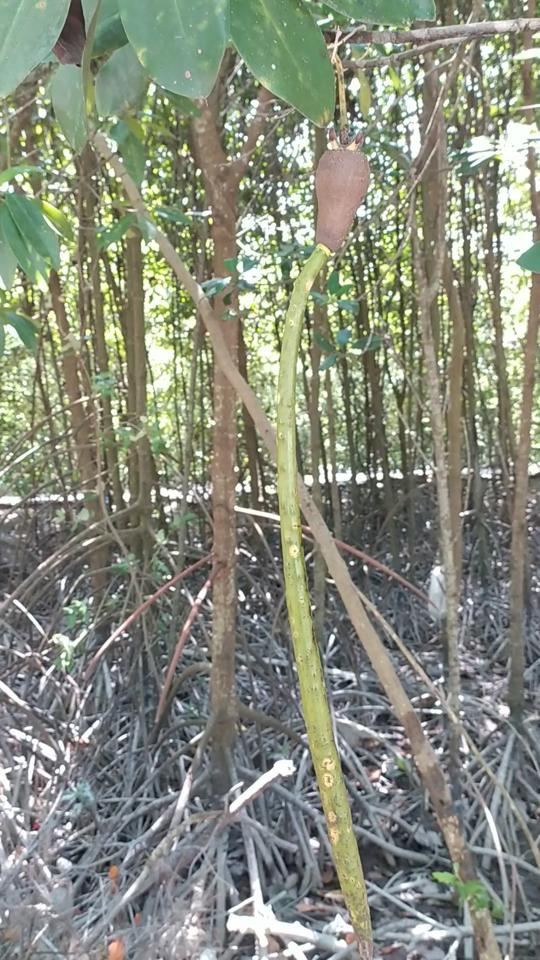setengah matang: (263, 127, 392, 956)
